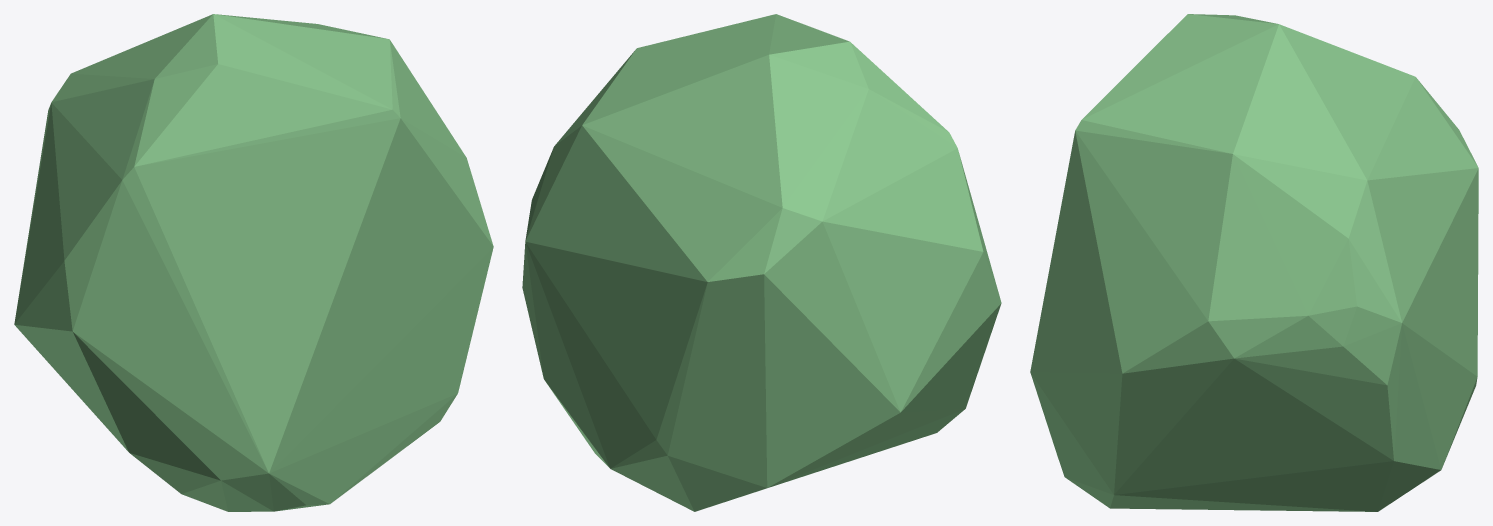
Rendered from food_produce_apple_r01.glb.
The picture shows the model from 3 angles, left to right: view 1: azimuth 30°, elevation 25°; view 2: azimuth 150°, elevation 25°; view 3: azimuth 270°, elevation 25°; orthographic projection. The views are drawn at different scales.
Visible parts, largest first — view 1: geometry_0; view 2: geometry_0; view 3: geometry_0.
Boxes of the visible parts, x1,y1,x2,y2 form: geometry_0: (14,14,493,511); geometry_0: (522,14,1001,511); geometry_0: (1030,14,1478,511).
Size of the model in its own units: 0.4412 by 0.4378 by 0.392.
